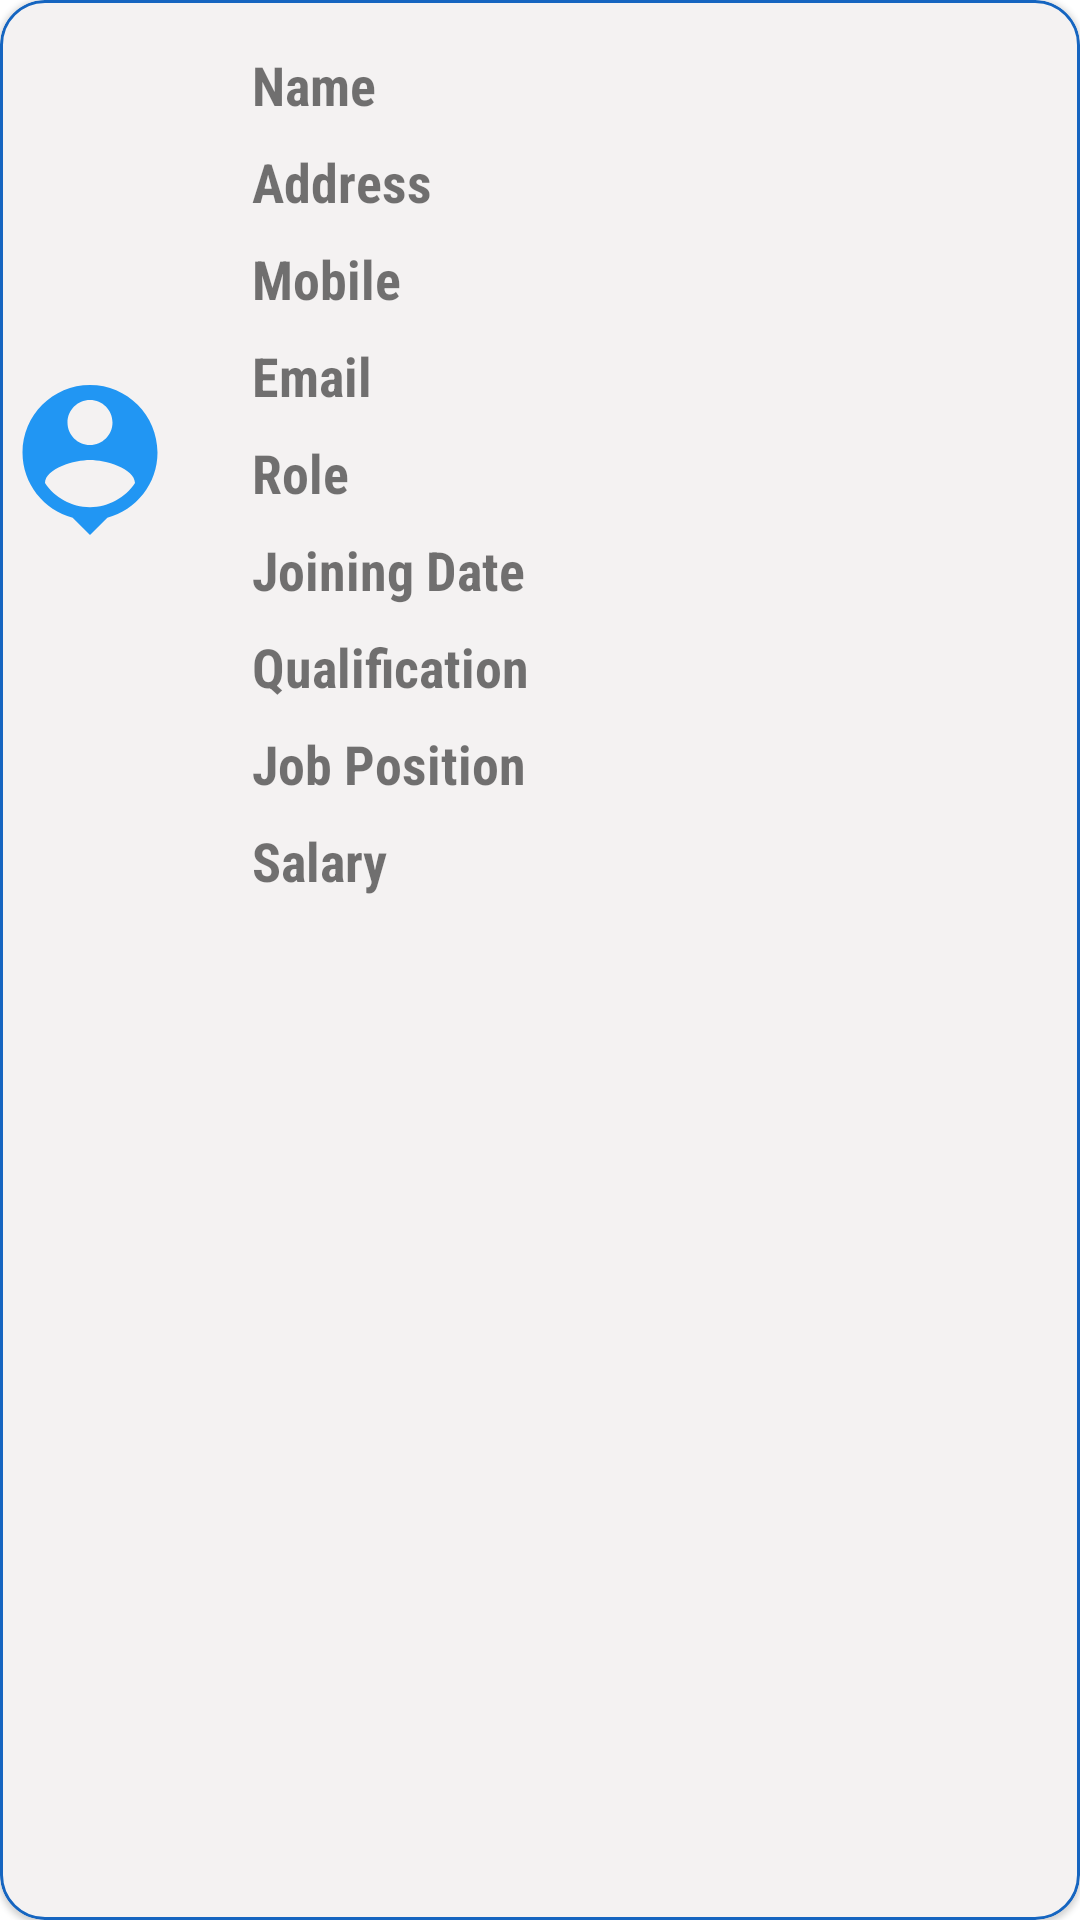

Where to tap for icons on this 1080 x 1920 app screen, as point (x, y):
person pin: point (90, 460)
